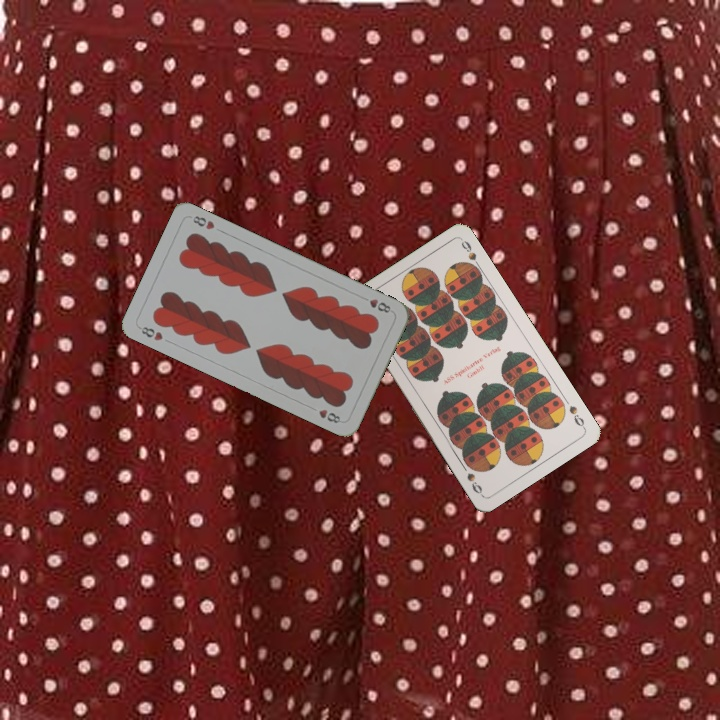H8: (357, 292, 395, 316), (135, 322, 165, 343)
S9: (565, 401, 588, 431)
